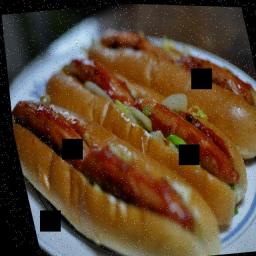hotdog: (2, 27, 256, 256)
